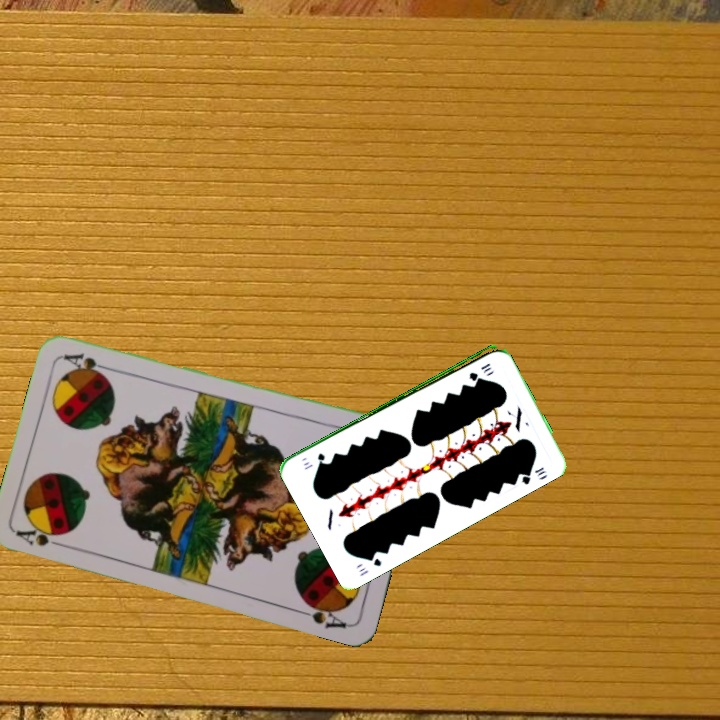G10: (355, 551, 384, 579), (465, 359, 493, 382)
SA: (13, 520, 71, 551)
